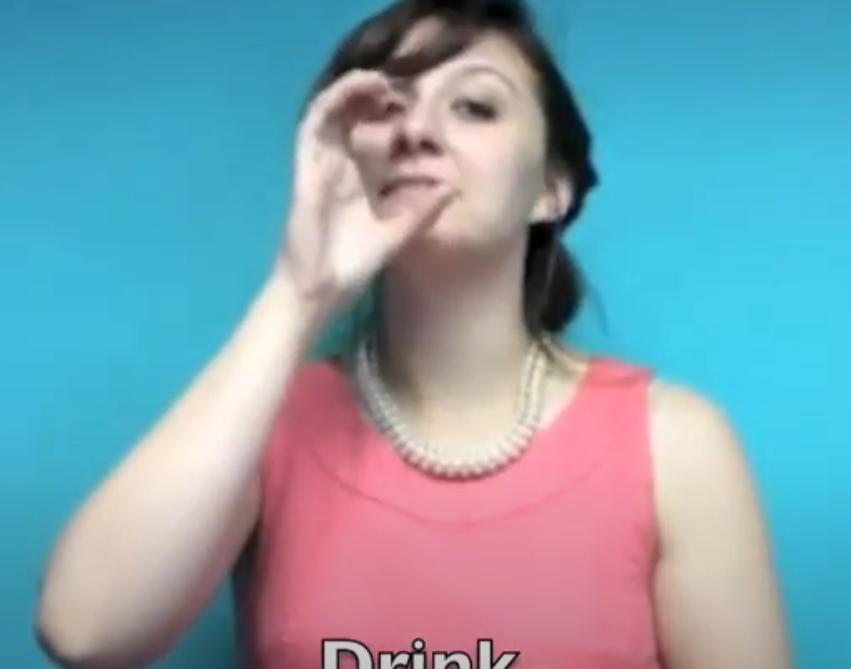drink: (286, 66, 456, 329)
